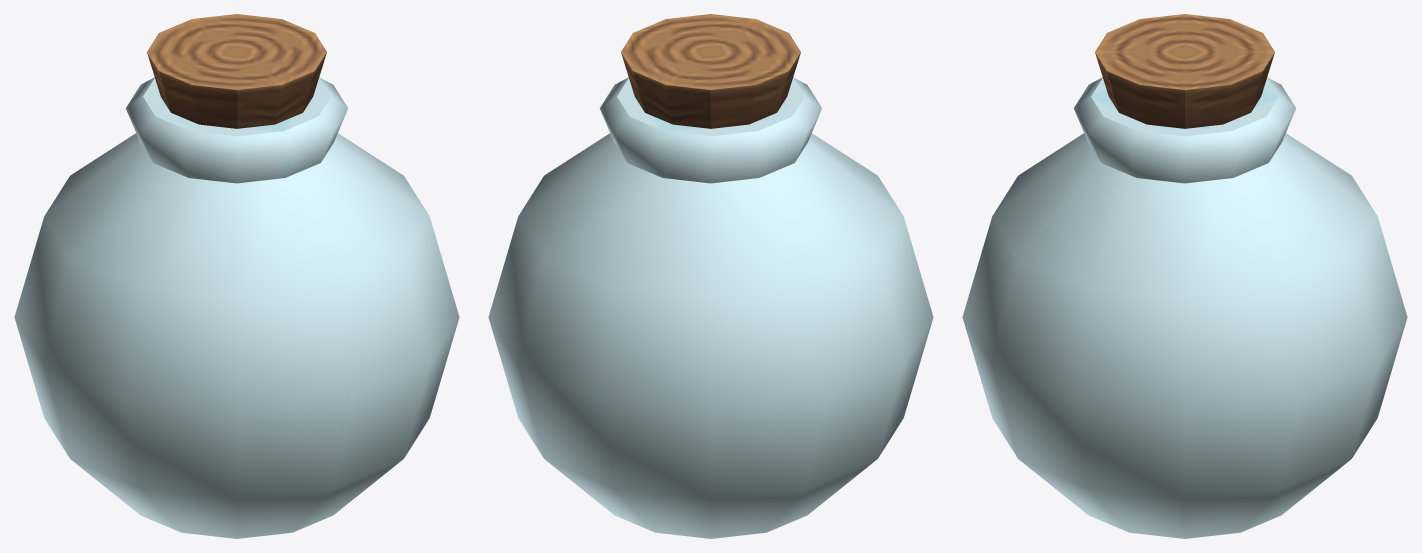
The model's file is potion_blue.FBX.
3 views of the same model, side by side, from view 1: azimuth 30°, elevation 25°; view 2: azimuth 150°, elevation 25°; view 3: azimuth 270°, elevation 25° (orthographic).
Visible parts, largest first — view 1: potion_Alpha2; view 2: potion_Alpha2; view 3: potion_Alpha2.
Part boxes in pixels (x1,y1,x2,y2): potion_Alpha2: [14, 14, 459, 538]; potion_Alpha2: [488, 14, 933, 538]; potion_Alpha2: [962, 14, 1407, 538].
Bounding box in the file's own units: 34.35 × 39.76 × 34.35.
